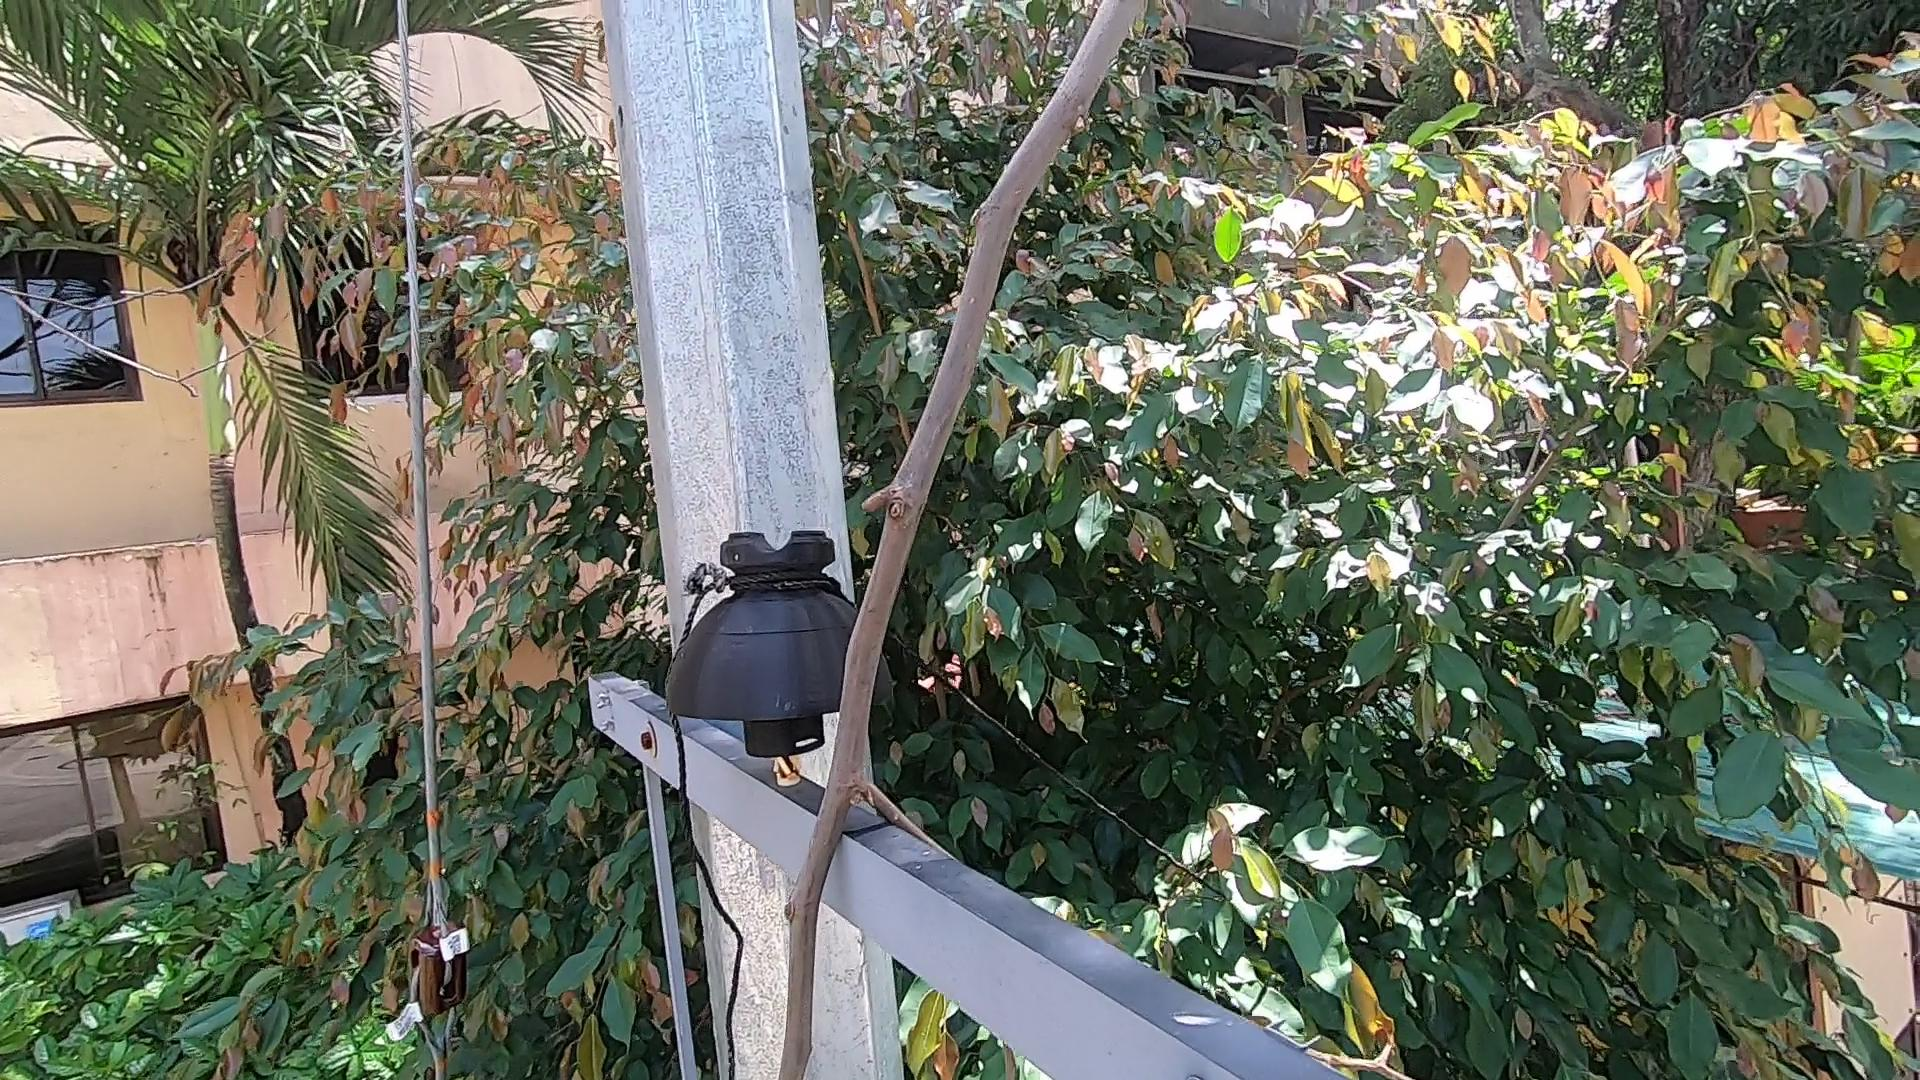tree branch: (736, 3, 1073, 1080)
